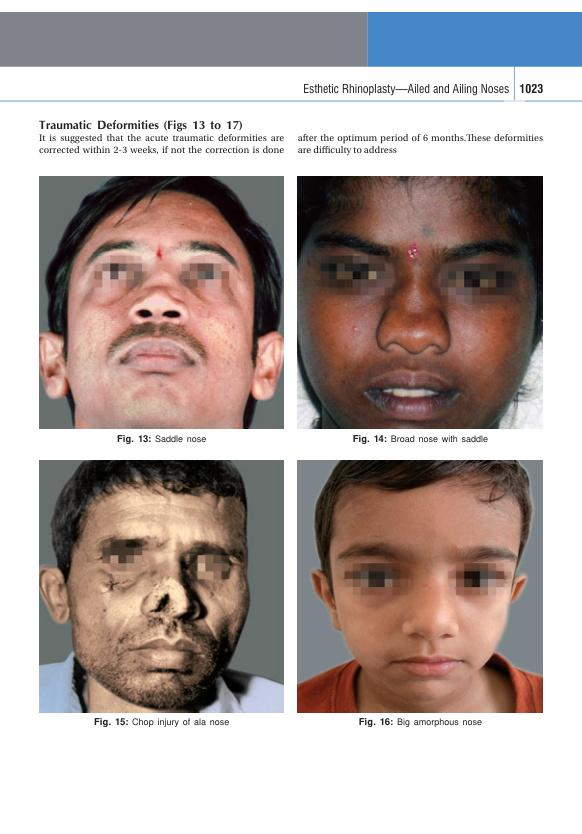caption: (351, 433, 489, 446), (93, 716, 230, 729), (357, 716, 484, 729), (115, 433, 208, 445)
header: (302, 82, 510, 96)
image: (296, 457, 544, 714), (38, 173, 285, 430), (297, 173, 544, 429), (39, 458, 284, 713)
sub-section-heading: (37, 118, 243, 132)
text: (296, 132, 544, 156), (38, 133, 285, 156)
